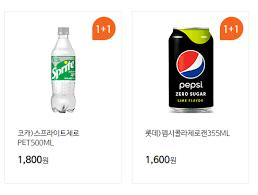pepsi_zero: (161, 21, 217, 119)
sprite_zero: (48, 24, 80, 117)
